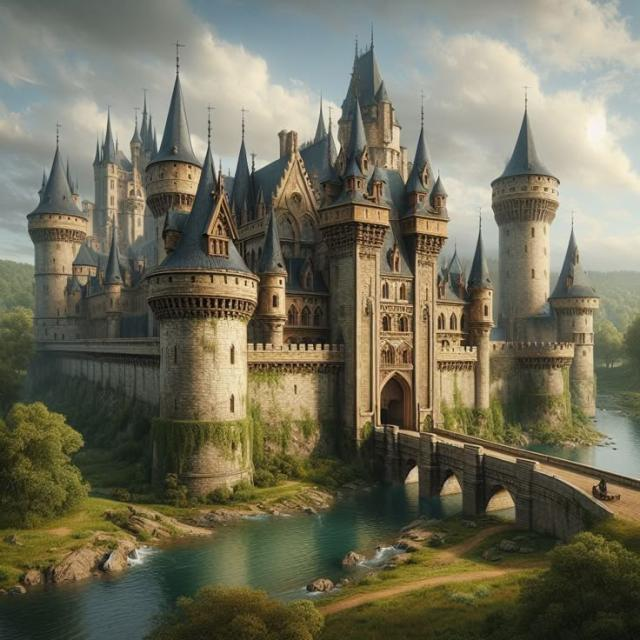castle: (13, 13, 626, 519)
